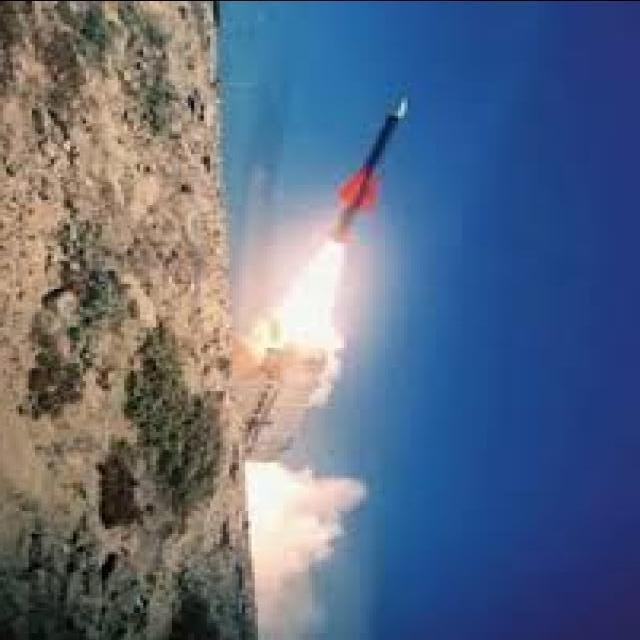Missile: (322, 93, 417, 258)
